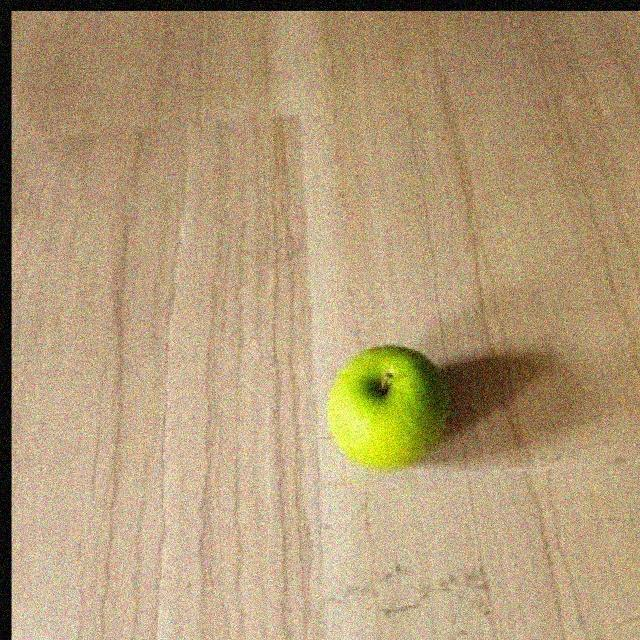green apple: (321, 337, 455, 477)
